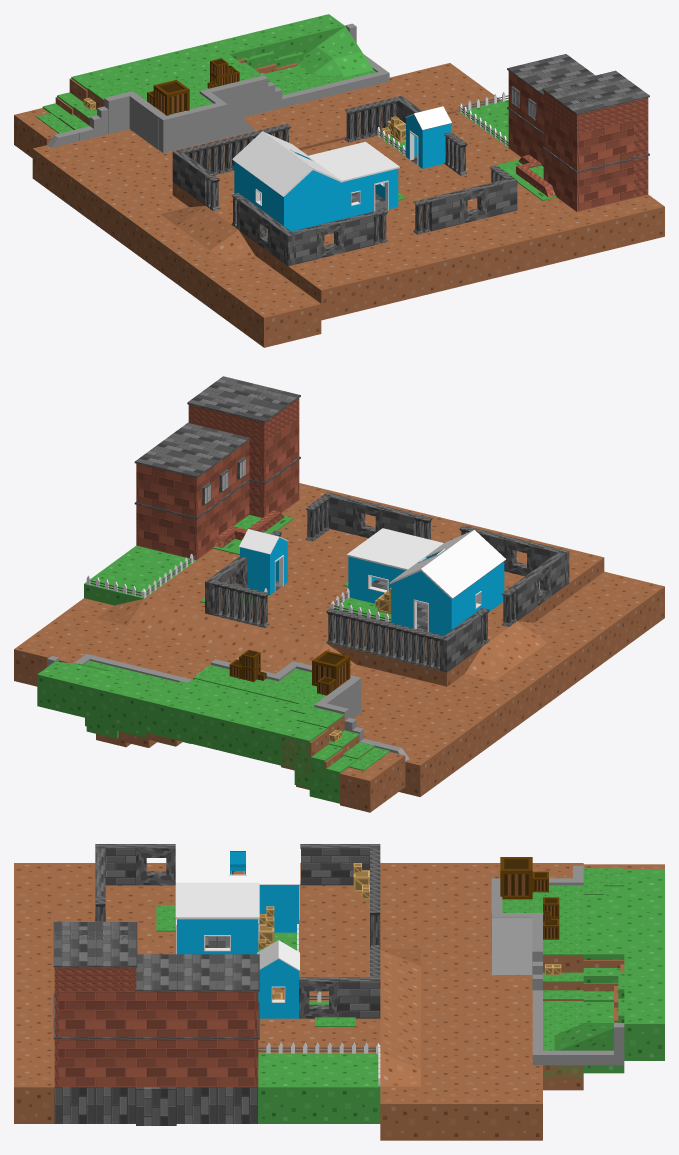
Rendered from SigmaCityTest7.glb.
The picture shows the model from 3 angles, top to bottom: view 1: azimuth 30°, elevation 25°; view 2: azimuth 150°, elevation 25°; view 3: azimuth 270°, elevation 25°; orthographic projection. The views are drawn at different scales.
Visible parts, largest first — view 1: Dirt.137, Dirt.124, CornerWall.001, Dirt.132, Dirt.123, Dirt.126, Dirt.136, Dirt.128, Dirt.130, Dirt.122, Dirt.125, Dirt.133 (+104 smaller); view 2: Dirt.164, Grass.020, Grass.029, Grass.024, Grass.027, Grass.019, Grass.028, Grass.032, Grass.023, Grass.031, Dirt.113, LongWindow (+64 smaller); view 3: StoneSlope, LongWindow.001, Dirt.094, Grass.007, Dirt.081, Dirt.082, Dirt.106, Grass.029, Grass.008, Grass.009, Dirt.133, Wall.012 (+147 smaller).
Boxes of the visible parts, x1,y1,x2,y2 form: Dirt.137: (247, 299, 292, 347); Dirt.124: (305, 271, 349, 320); CornerWall.001: (267, 185, 312, 231); Dirt.132: (591, 201, 636, 250); Dirt.123: (448, 236, 493, 285); Dirt.126: (362, 257, 407, 306); Dirt.136: (276, 292, 321, 340); Dirt.128: (419, 243, 464, 292); Dirt.130: (505, 222, 550, 271); Dirt.122: (534, 215, 578, 264); Dirt.125: (334, 264, 378, 313); Dirt.133: (620, 194, 664, 243); Dirt.164: (340, 764, 387, 812); Grass.020: (279, 721, 326, 772); Grass.029: (37, 662, 84, 713); Grass.024: (128, 684, 175, 735); Grass.027: (97, 676, 144, 728); Grass.019: (249, 713, 296, 764); Grass.028: (67, 669, 114, 720); Grass.032: (188, 698, 235, 750); Grass.023: (158, 691, 205, 742); Grass.031: (219, 706, 266, 757); Dirt.113: (399, 745, 437, 796); LongWindow: (348, 559, 402, 603); StoneSlope: (492, 917, 532, 974); LongWindow.001: (177, 922, 254, 954); Dirt.094: (461, 1086, 502, 1140); Grass.007: (298, 1070, 339, 1123); Dirt.081: (421, 1086, 461, 1140); Dirt.082: (380, 1086, 420, 1140); Dirt.106: (502, 1086, 542, 1140); Grass.029: (624, 1006, 664, 1060); Grass.008: (339, 1070, 380, 1123); Grass.009: (258, 1070, 298, 1123); Dirt.133: (14, 1070, 54, 1123); Wall.012: (95, 1039, 136, 1087).
Size of what is drawn, in the model's own units: 28.06 by 9.51 by 32.
Materials: 16 (6 with a texture image).
